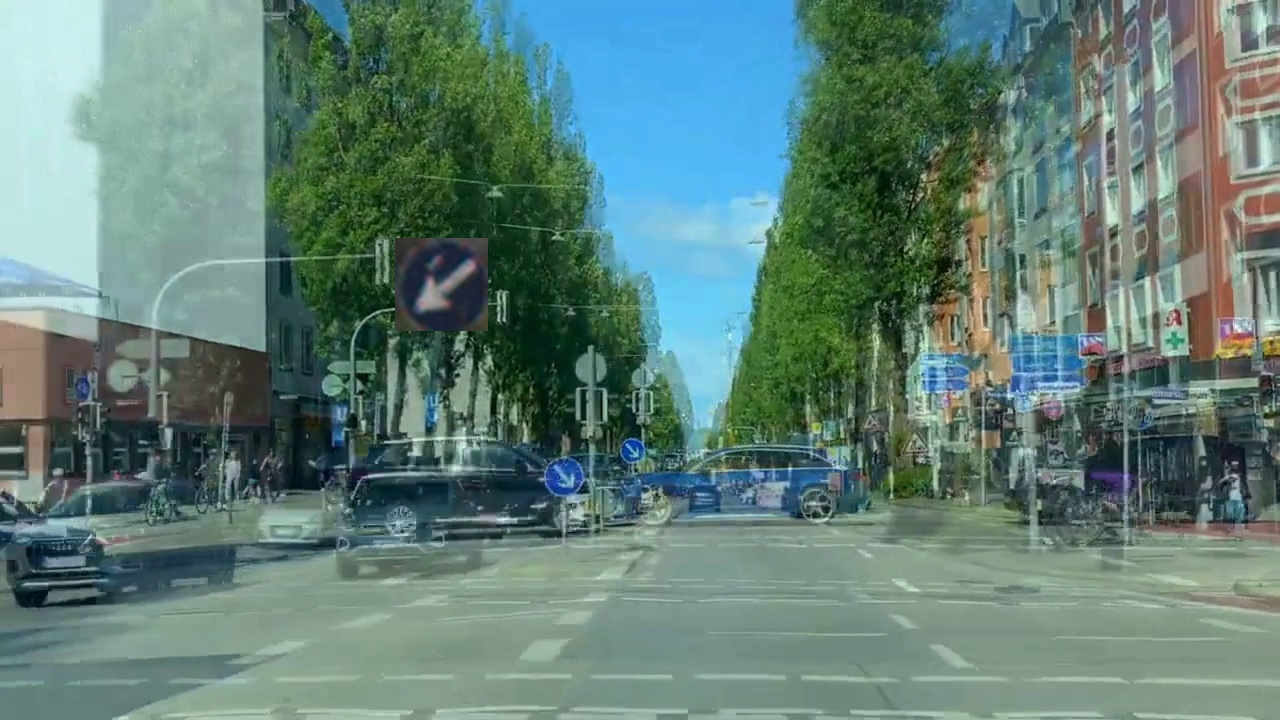Keep left: (395, 238, 488, 331)
